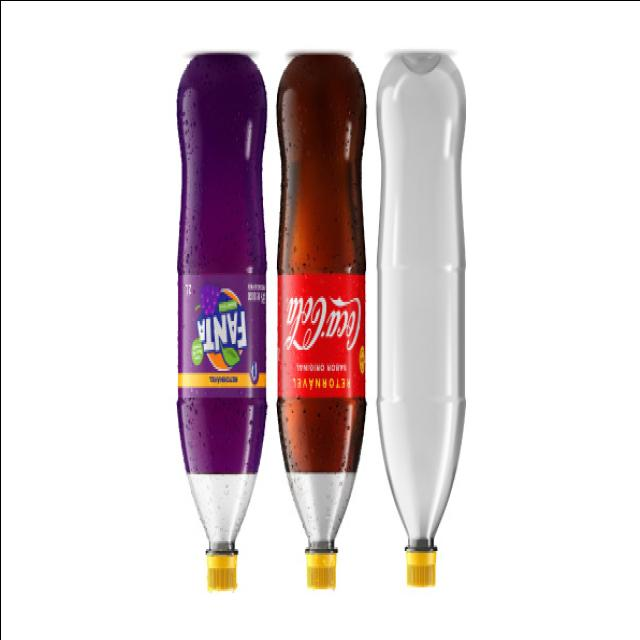bottom: (373, 42, 477, 133), (272, 47, 370, 133), (173, 49, 267, 136)
cap: (399, 529, 446, 589), (298, 536, 340, 593), (200, 541, 243, 594)
